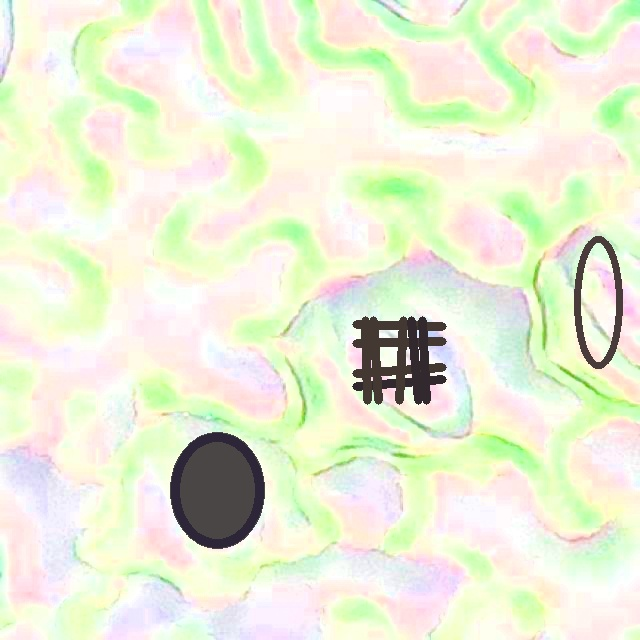close: (170, 432, 264, 549)
open: (352, 316, 445, 404), (572, 236, 623, 369)
